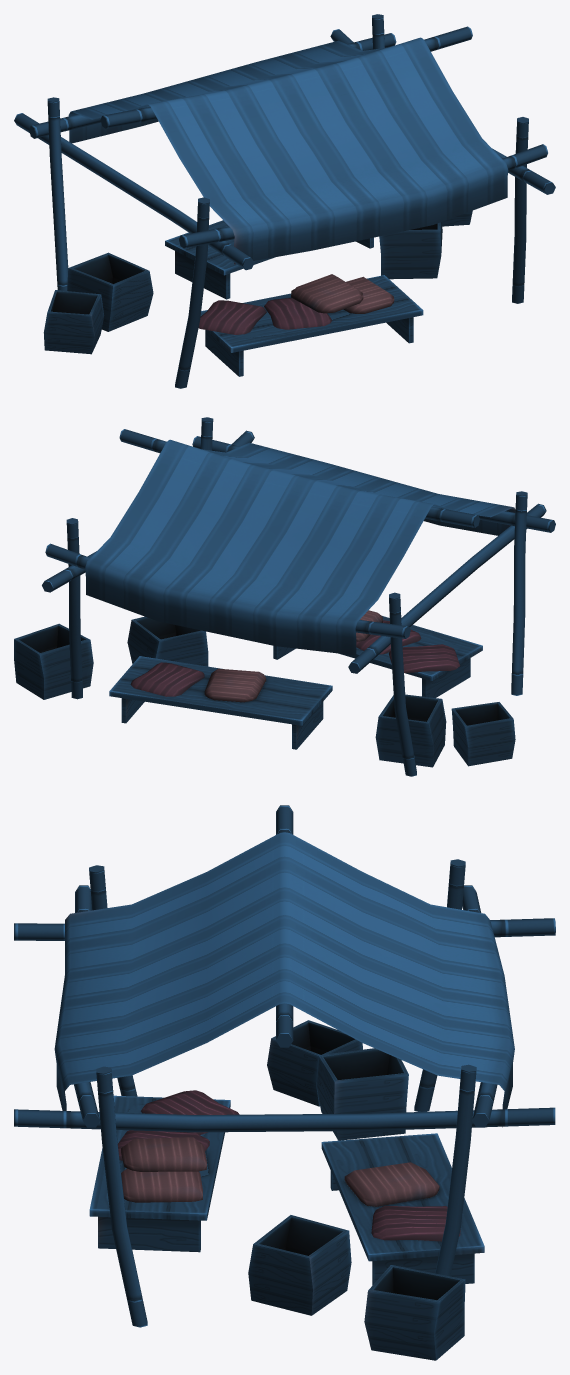
Rendered from Market1.FBX.
3 renders of one model, top to bottom at view 1: azimuth 30°, elevation 25°; view 2: azimuth 150°, elevation 25°; view 3: azimuth 270°, elevation 25°, orthographic. The views are drawn at different scales.
Parts seen in each view (by area): view 1: MarketStall1; view 2: MarketStall1; view 3: MarketStall1.
Part boxes in pixels (x1,y1,x2,y2): MarketStall1: [14, 14, 555, 388]; MarketStall1: [14, 417, 555, 776]; MarketStall1: [14, 805, 555, 1360].
Size of the model in its own units: 196 by 92.3 by 153.
